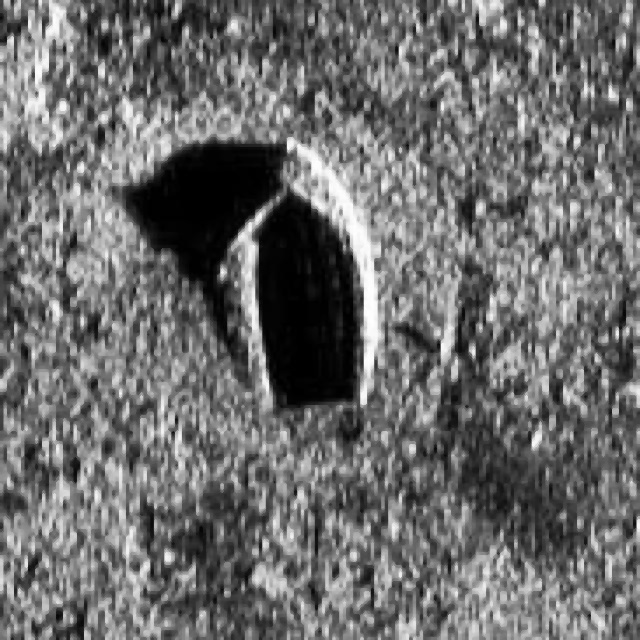Ship: (201, 129, 402, 429)
